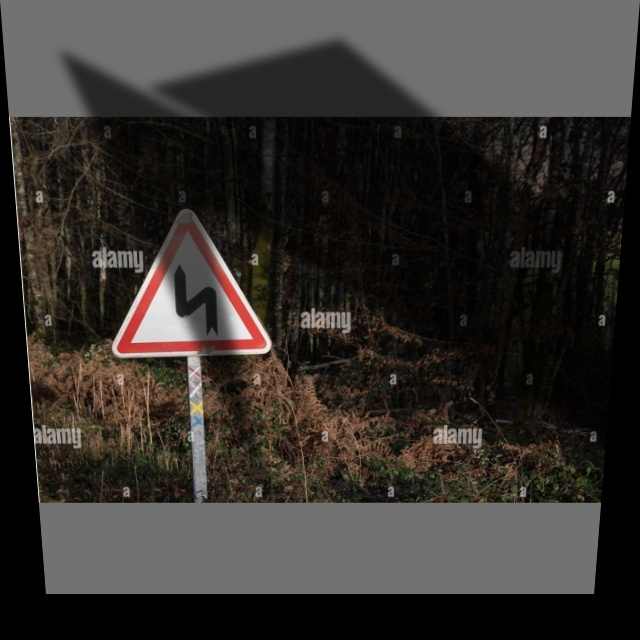Left_Reverse_Bend: (97, 200, 276, 362)
